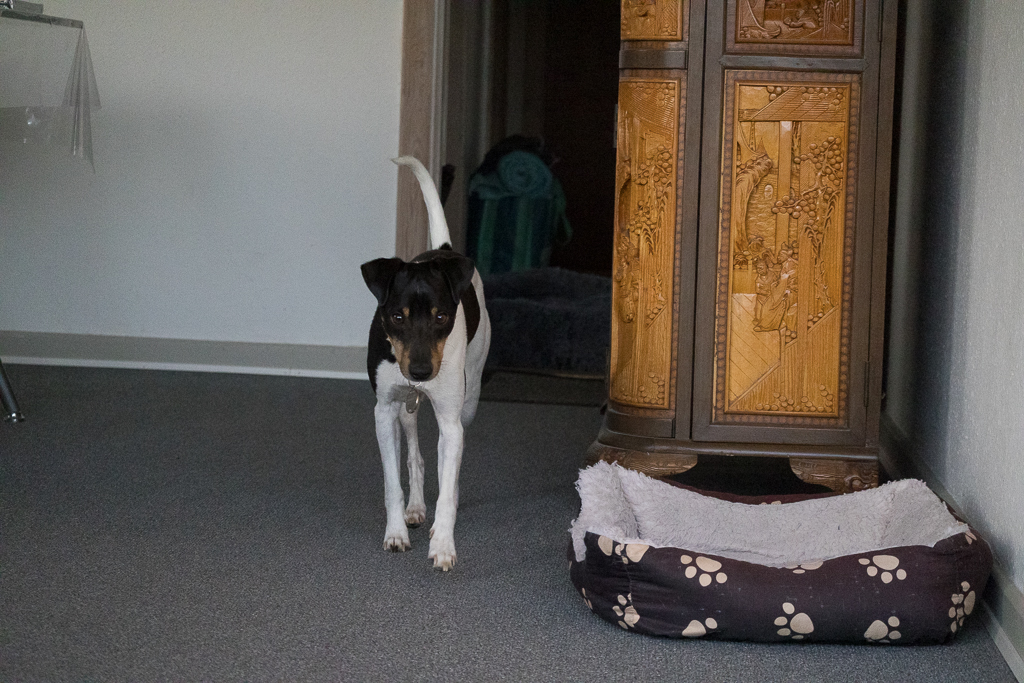Dog: (337, 137, 507, 590)
